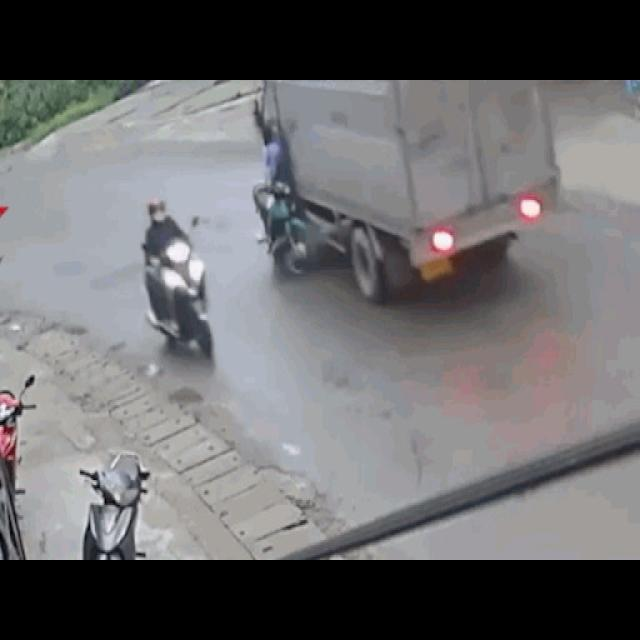multiple_accident: (249, 80, 562, 315)
normal: (110, 179, 240, 387)
